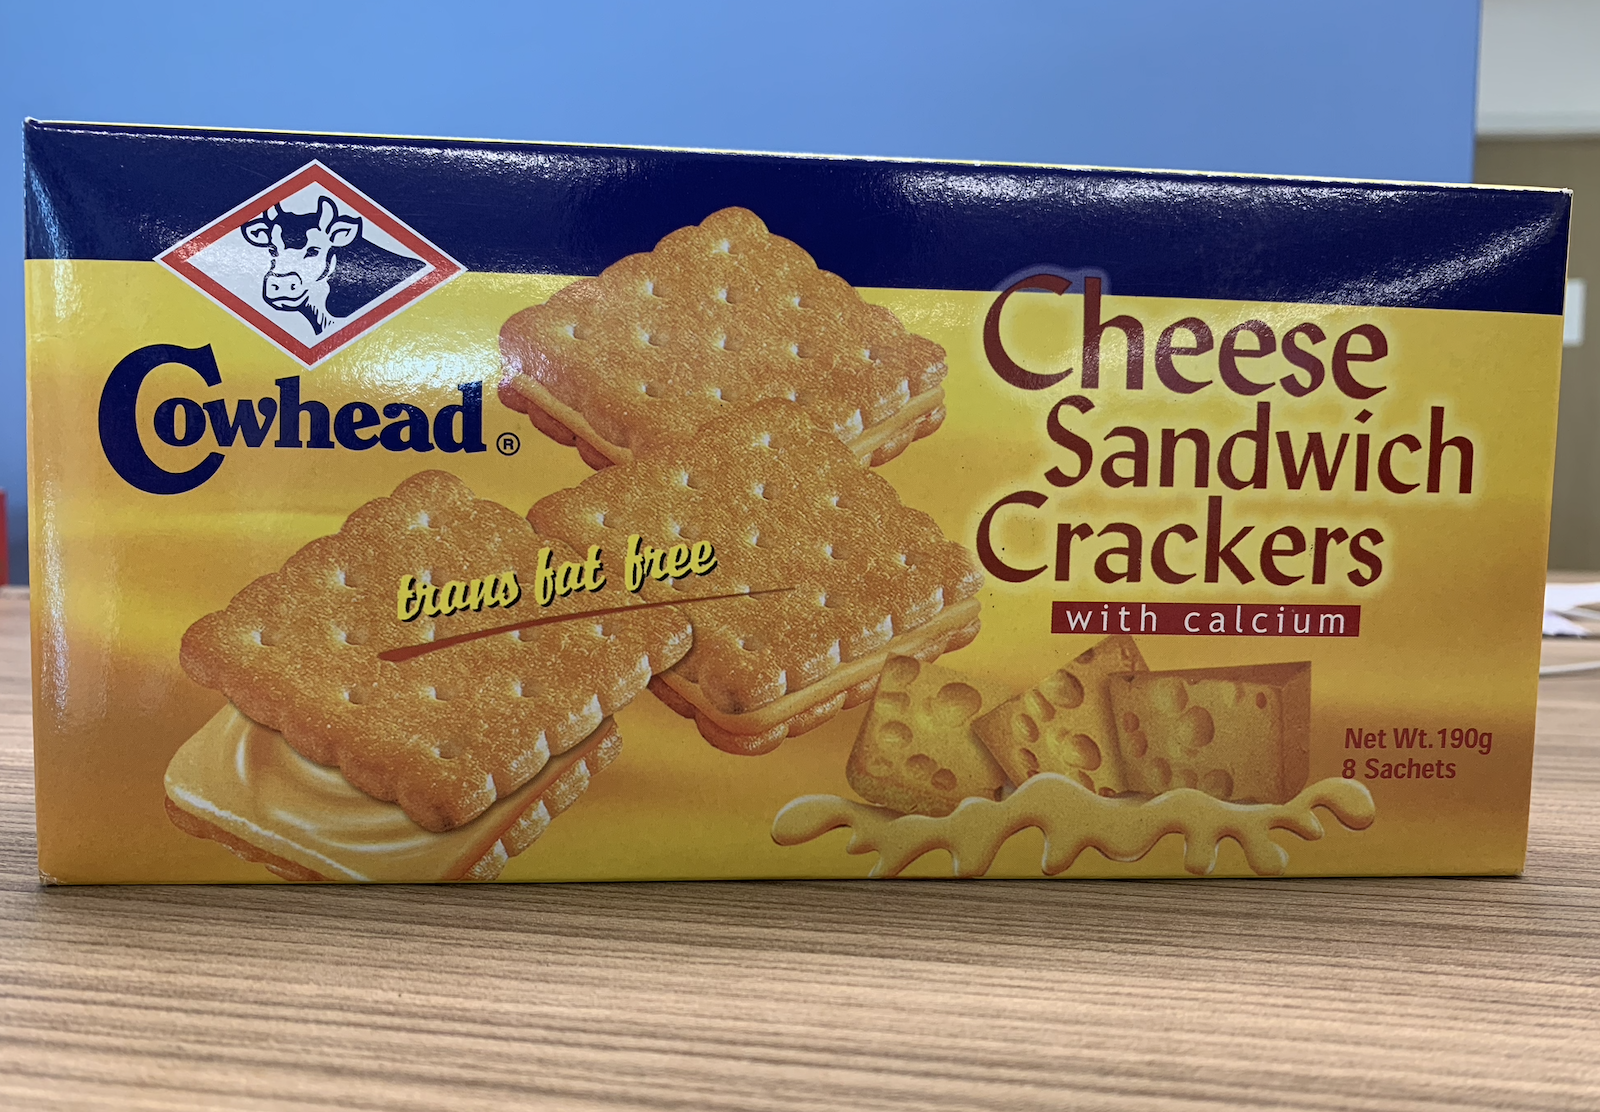crackers_150g: (81, 185, 1523, 859)
